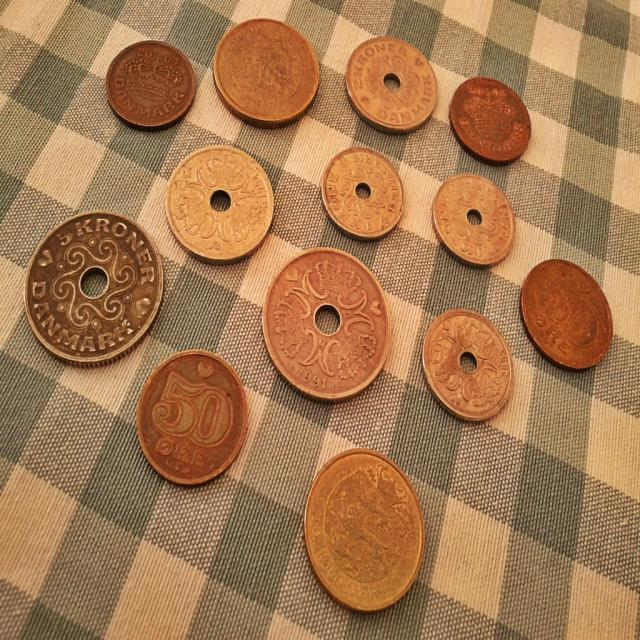Coin: (20, 208, 168, 366), (262, 244, 396, 398), (304, 445, 421, 609), (134, 347, 252, 491), (162, 140, 278, 263), (213, 13, 324, 124), (516, 255, 617, 376), (418, 306, 518, 421), (342, 33, 442, 135), (318, 146, 408, 243), (104, 36, 199, 126), (427, 170, 516, 262), (450, 78, 535, 160)
